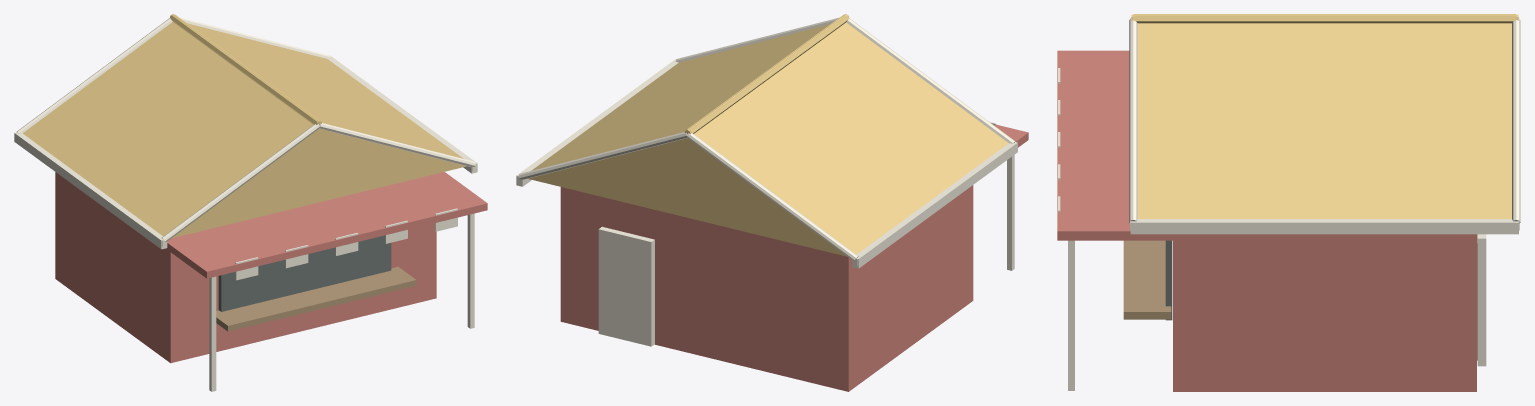
The model's file is park-kiosk-0.glb.
3 renders of one model, left to right at view 1: azimuth 30°, elevation 25°; view 2: azimuth 150°, elevation 25°; view 3: azimuth 270°, elevation 25°, orthographic. The views are drawn at different scales.
Bounding box in the file's own units: 8.56 × 5.72 × 8.22.
